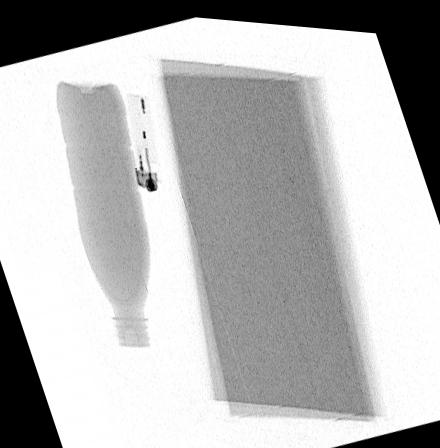Lighter: (123, 91, 157, 191)
